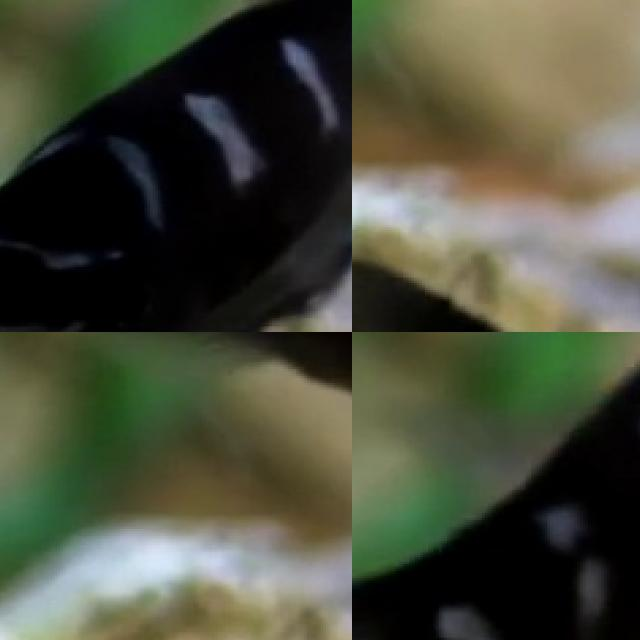fish: (0, 0, 352, 332), (352, 227, 640, 332)
